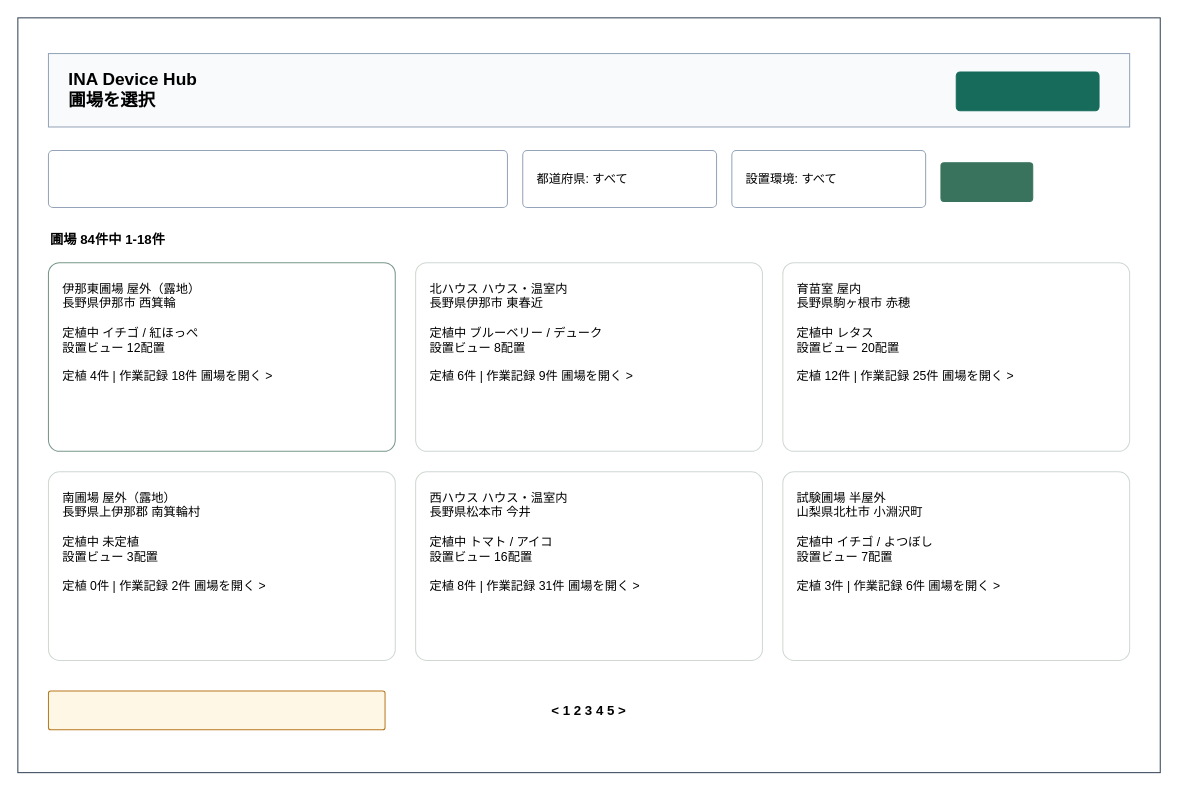
Image size: 1178x791. Some labels were removed from this diagram. The centre of each missing label's shape, as x and y in pixels:
+ 圃場を追加: [1027,91]
取得境界: 圃場18件のみ。全デバイス・全カメラは取得しない。: [216,710]
圃場名・市区町村・地区: [277,178]
検索: [986,181]
